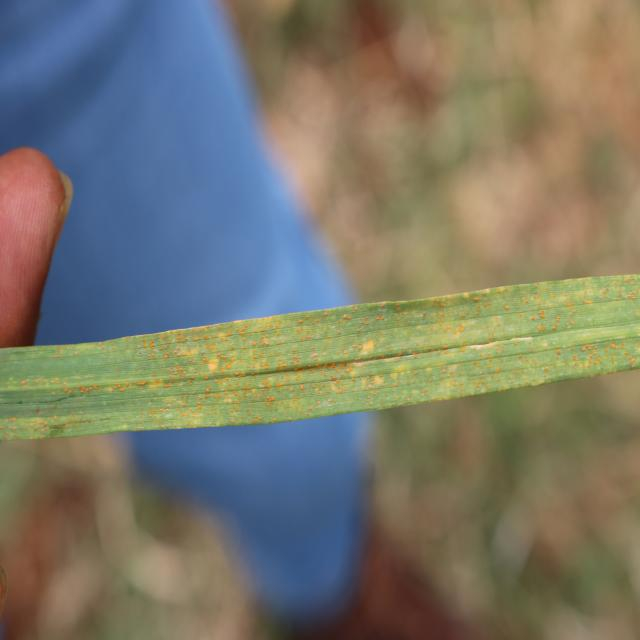Stripe Rust: (126, 338, 385, 393)
